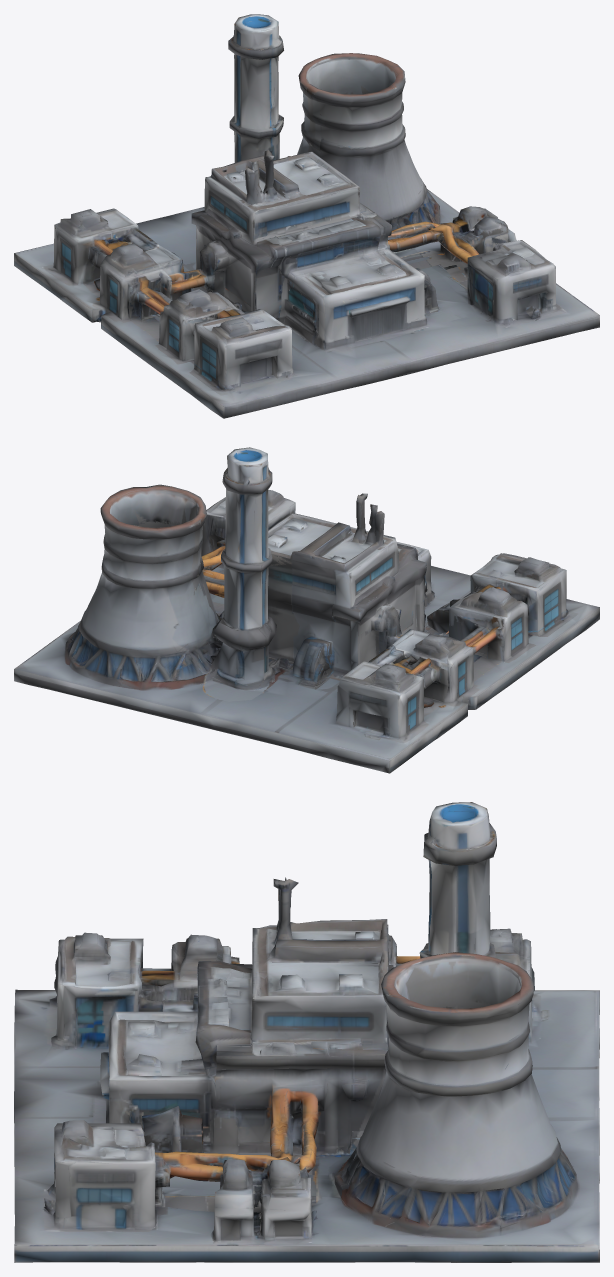
File: Power_Plant_Industria_0811043454_texture.glb
3 views of the same model, one above another, from view 1: azimuth 30°, elevation 25°; view 2: azimuth 150°, elevation 25°; view 3: azimuth 270°, elevation 25° (orthographic). The views are drawn at different scales.
Size of the model in its own units: 2 by 1.19 by 1.94.
1 material, 1 textured.
